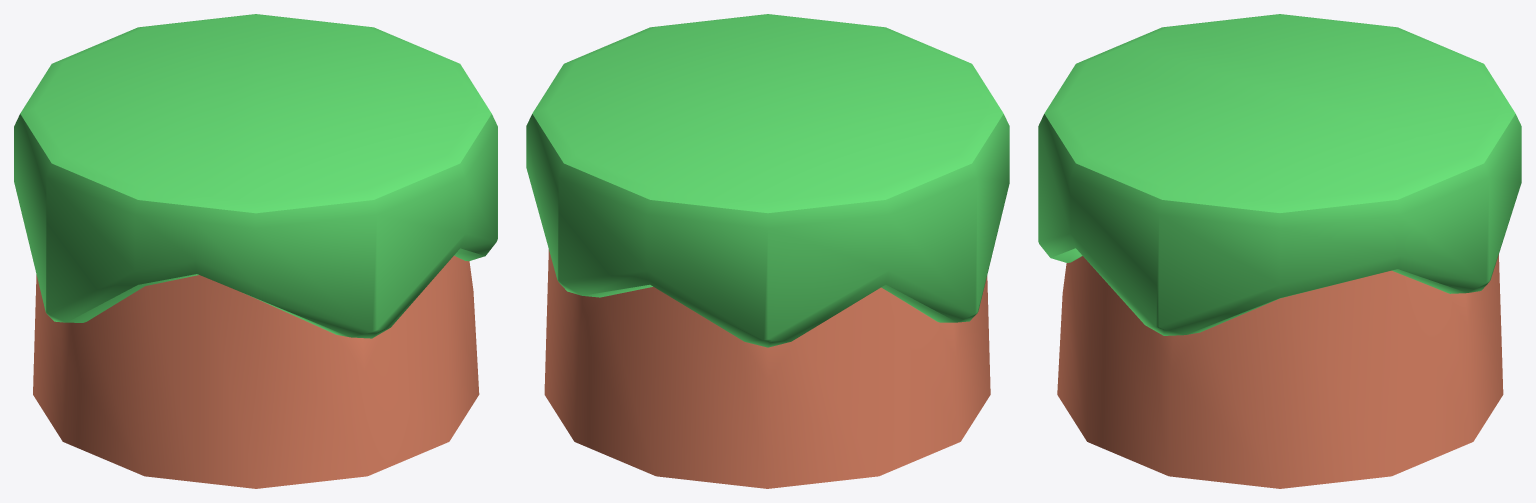
The model's file is Hill_C.fbx.
3 views of the same model, side by side, from view 1: azimuth 30°, elevation 25°; view 2: azimuth 150°, elevation 25°; view 3: azimuth 270°, elevation 25° (orthographic).
Parts seen in each view (by area): view 1: Hill_C; view 2: Hill_C; view 3: Hill_C.
Part boxes in pixels (x1=…): Hill_C: x1=14, y1=14, x2=497, y2=488; Hill_C: x1=526, y1=14, x2=1009, y2=488; Hill_C: x1=1038, y1=14, x2=1521, y2=488.
Size of the model in its own units: 306 by 200 by 306.
